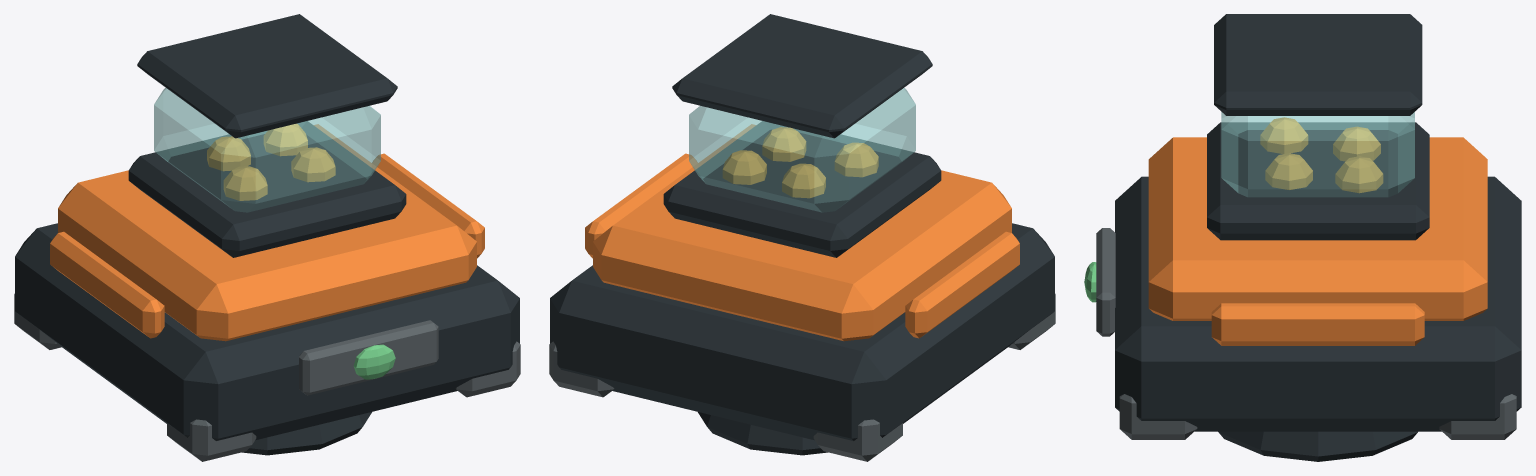
File: FarmRunner.glb
The picture shows the model from 3 angles, left to right: view 1: azimuth 30°, elevation 25°; view 2: azimuth 150°, elevation 25°; view 3: azimuth 270°, elevation 25°; orthographic projection. The views are drawn at different scales.
Parts seen in each view (by area): view 1: FarmRunner_Mesh; view 2: FarmRunner_Mesh; view 3: FarmRunner_Mesh.
Part boxes in pixels (<box>): FarmRunner_Mesh: <box>14,14,520,461</box>; FarmRunner_Mesh: <box>549,14,1055,461</box>; FarmRunner_Mesh: <box>1084,14,1521,461</box>.
Size of the model in its own units: 0.855 by 0.875 by 0.903.
